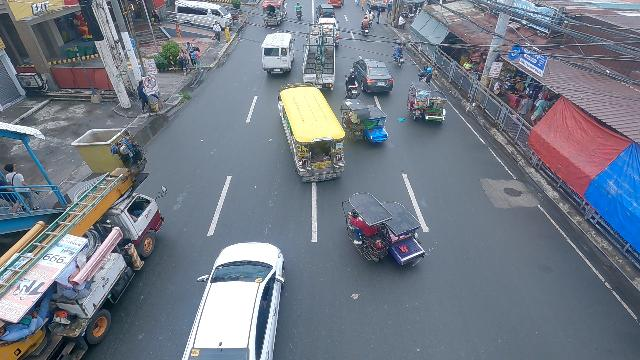car: (179, 240, 287, 360), (352, 59, 394, 94), (315, 3, 337, 19), (294, 1, 304, 21)
jeepney: (277, 83, 348, 184), (261, 0, 287, 26)
motorcycle: (344, 72, 359, 100), (391, 45, 407, 67), (360, 16, 370, 37)
truck: (0, 129, 168, 360), (301, 23, 337, 92)
van: (175, 1, 234, 32), (261, 32, 296, 77), (316, 16, 340, 46)
